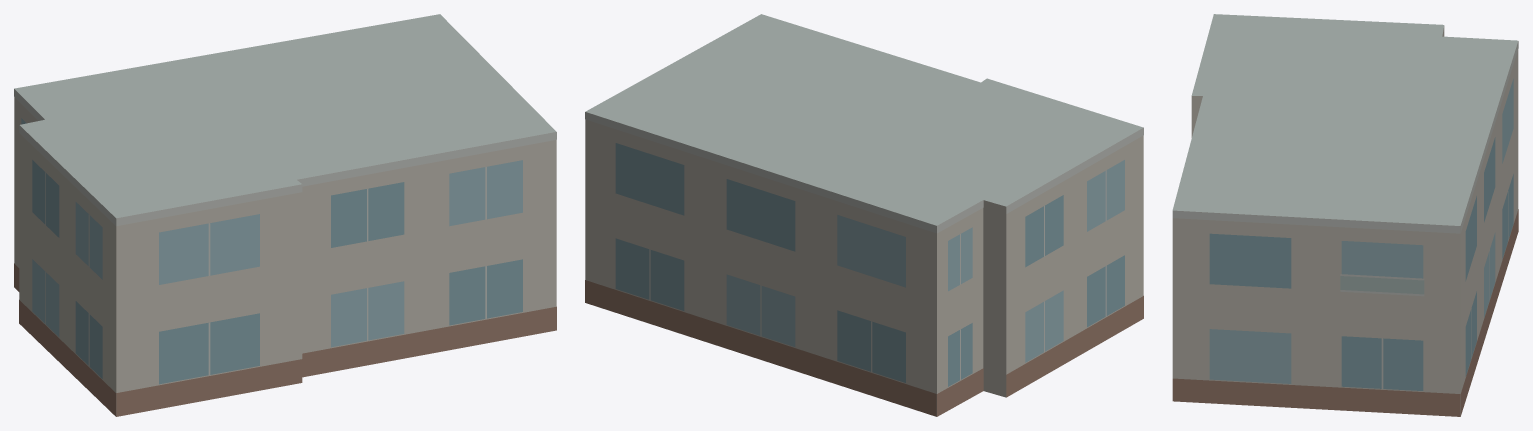
Rendered from survey-upis-32677652.glb.
3 views of the same model, side by side, from view 1: azimuth 30°, elevation 25°; view 2: azimuth 150°, elevation 25°; view 3: azimuth 270°, elevation 25° (orthographic). The views are drawn at different scales.
Visible parts, largest first — view 1: survey-upis-32677652.tmp; view 2: survey-upis-32677652.tmp; view 3: survey-upis-32677652.tmp.
Part boxes in pixels (x1,y1,x2,y2): survey-upis-32677652.tmp: [14, 14, 556, 416]; survey-upis-32677652.tmp: [585, 14, 1143, 416]; survey-upis-32677652.tmp: [1172, 14, 1518, 416].
Bounding box in the file's own units: 14.56 × 6.1 × 10.04.
